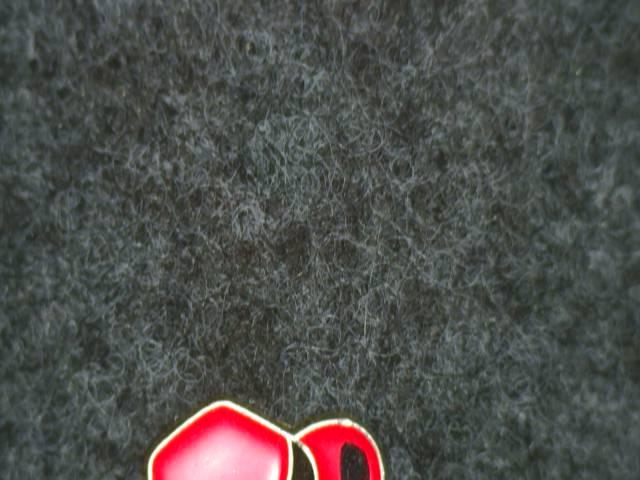Red-Hat: (110, 377, 400, 480)
Scratch: (330, 431, 381, 480)
